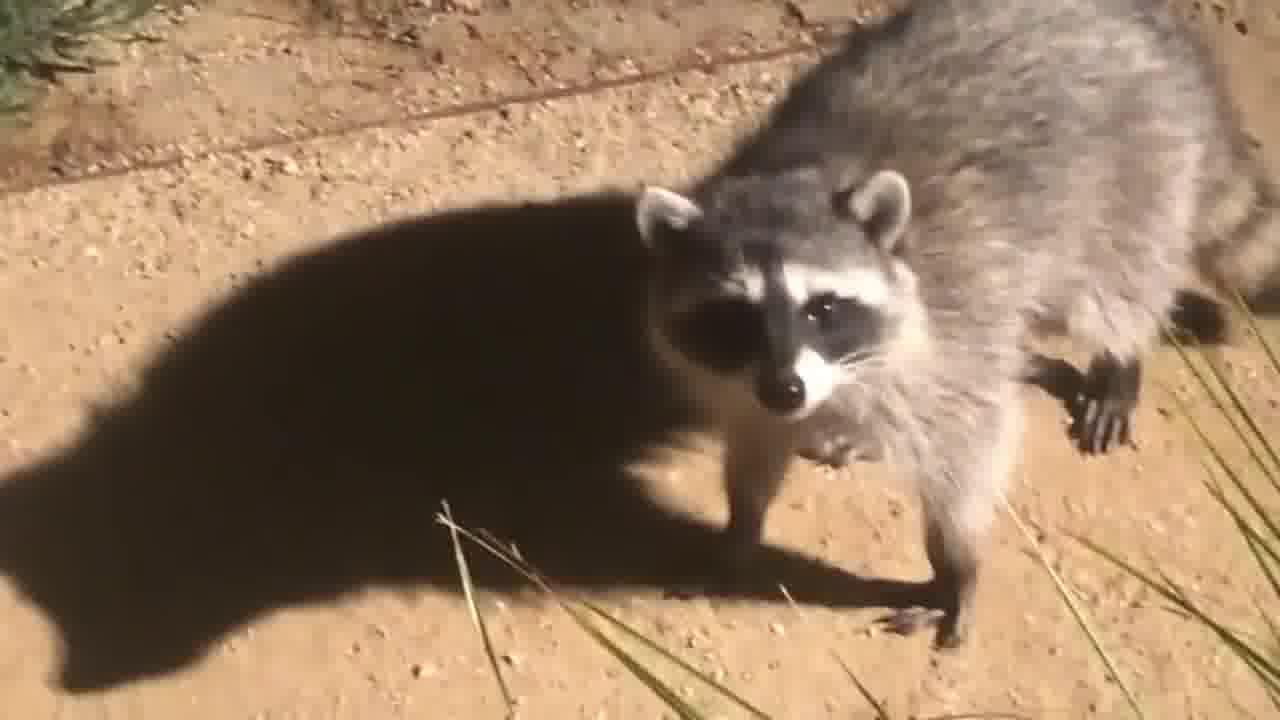raccoon: (628, 0, 1280, 662)
